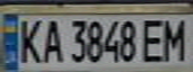3: (66, 17, 87, 64)
4: (103, 17, 124, 63)
8: (118, 17, 142, 63), (84, 17, 106, 64)
A: (39, 16, 66, 64)
E: (139, 16, 169, 63)
K: (15, 16, 45, 65)
M: (157, 15, 190, 62)
